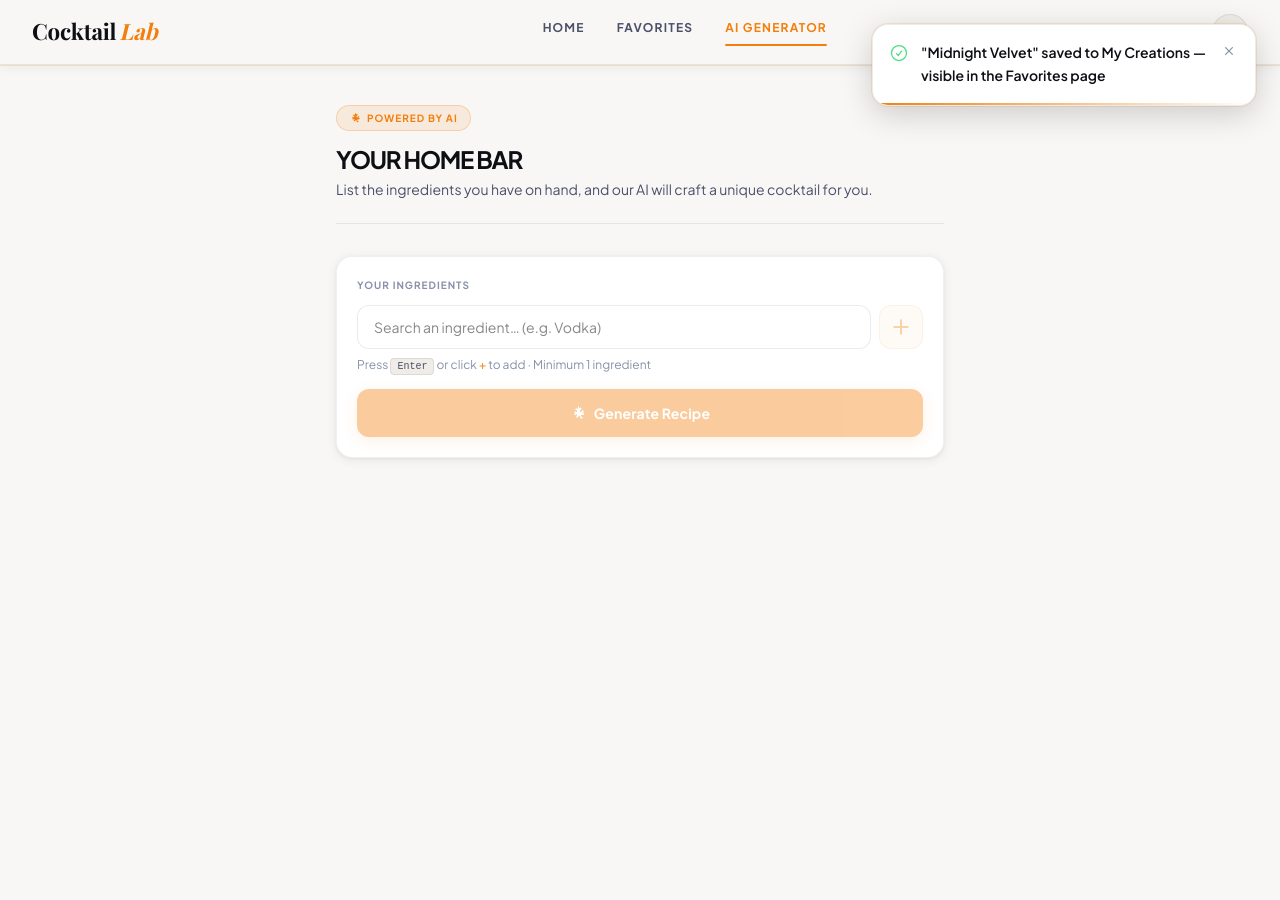
Test: GenerateAI view › saves the recipe to My Creations and disables the button
Step 1. Type "Rum" into the field with placeholder "Search an ingredient… (e.g. Vodka)" → (614, 327), box [357, 305, 871, 349]
Then press Enter
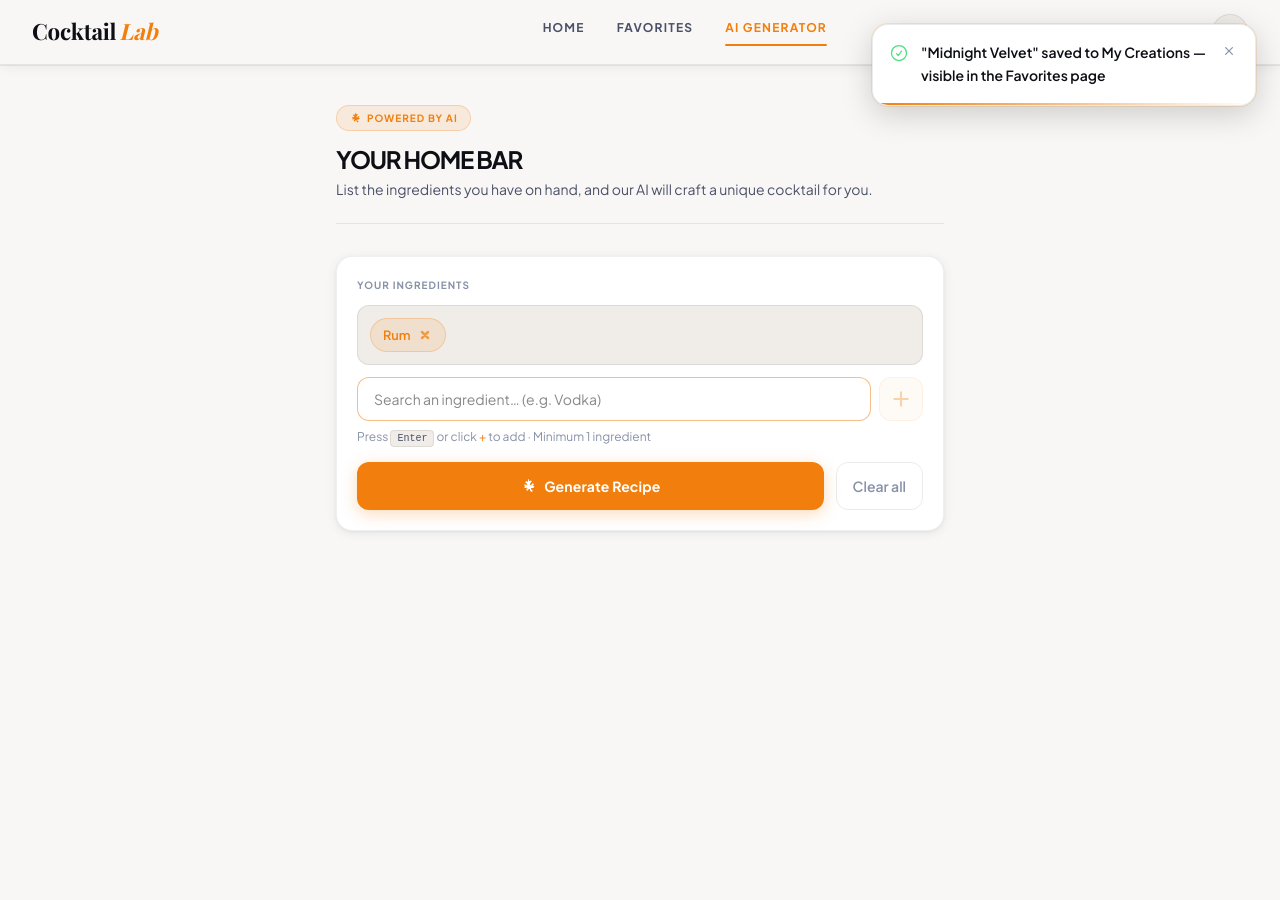
Step 2. Click the button "Generate Recipe" → (590, 486), box [357, 462, 824, 510]
(page scrolled)
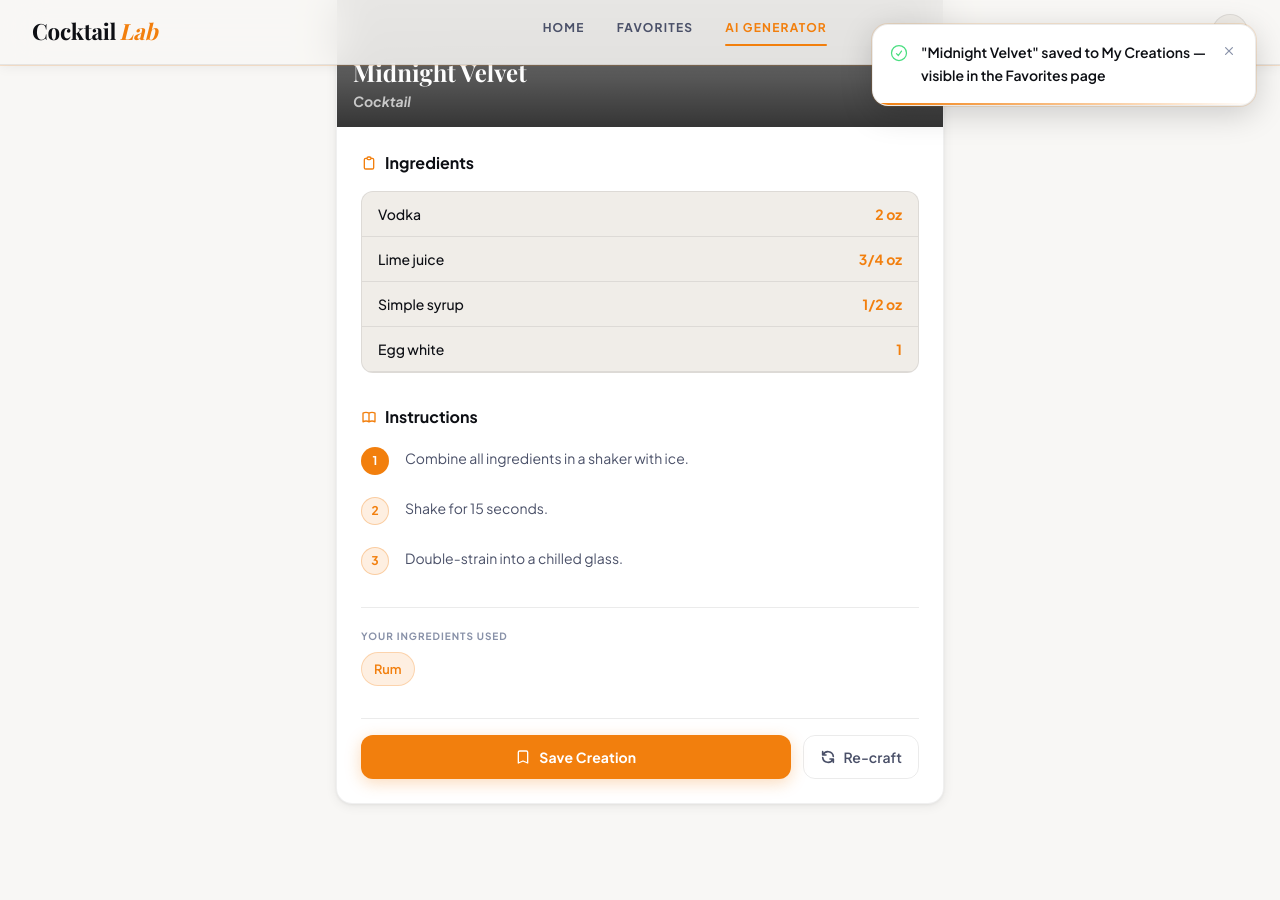
Step 3. Click the button with aria-label "save to my creations" → (576, 757), box [361, 735, 791, 779]
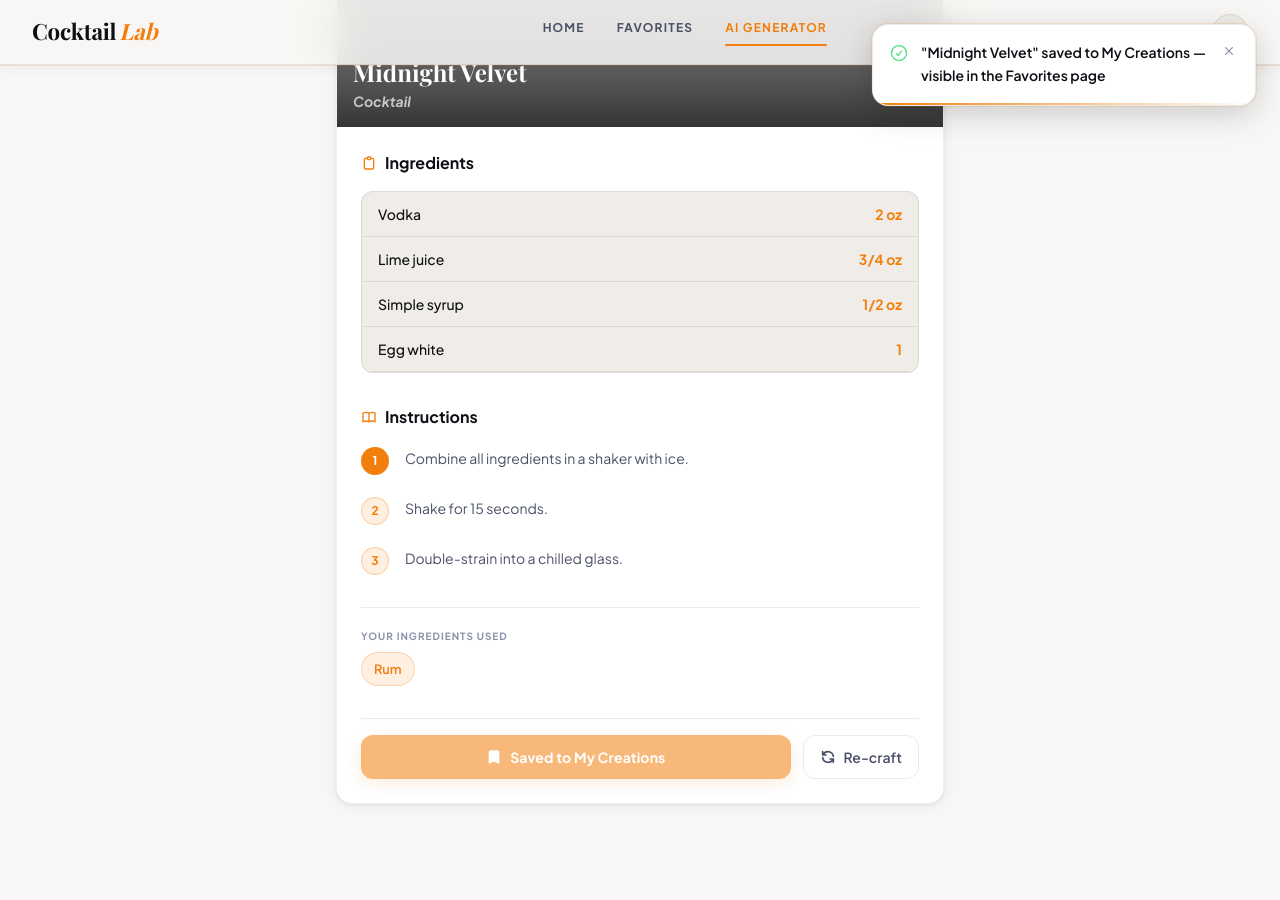
Expected: the button with aria-label "recipe already saved to my creations" is disabled, [361, 735, 791, 779]
